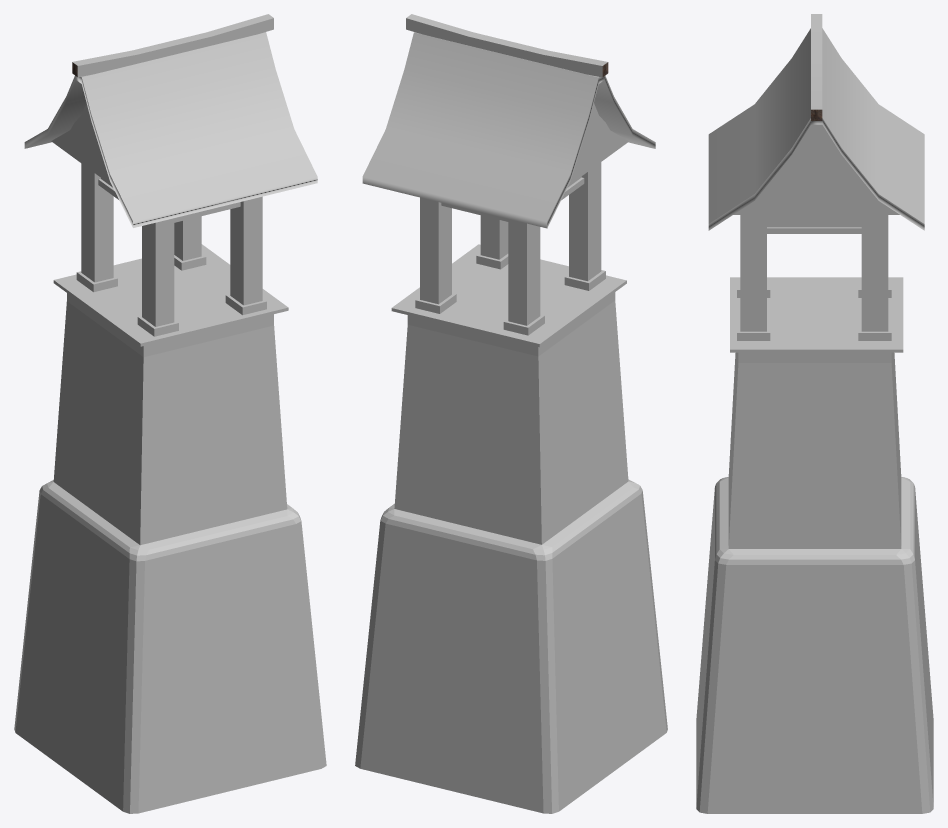
File: bridge tower_01 lod1.fbx
The picture shows the model from 3 angles, left to right: view 1: azimuth 30°, elevation 25°; view 2: azimuth 150°, elevation 25°; view 3: azimuth 270°, elevation 25°; orthographic projection.
Visible parts, largest first — view 1: polySurface1272; view 2: polySurface1272; view 3: polySurface1272.
Part boxes in pixels (x1=…): polySurface1272: x1=14, y1=14, x2=326, y2=813; polySurface1272: x1=355, y1=14, x2=667, y2=813; polySurface1272: x1=696, y1=14, x2=933, y2=813.
Bounding box in the file's own units: 10.26 × 34.11 × 10.41.
